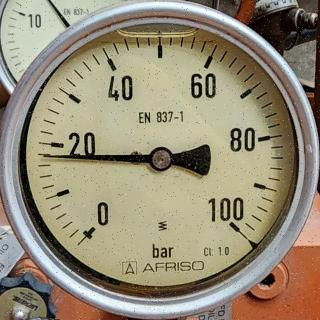gauge: (0, 0, 320, 320), (204, 196, 256, 248), (74, 210, 109, 248), (148, 146, 174, 172), (37, 150, 54, 162)
